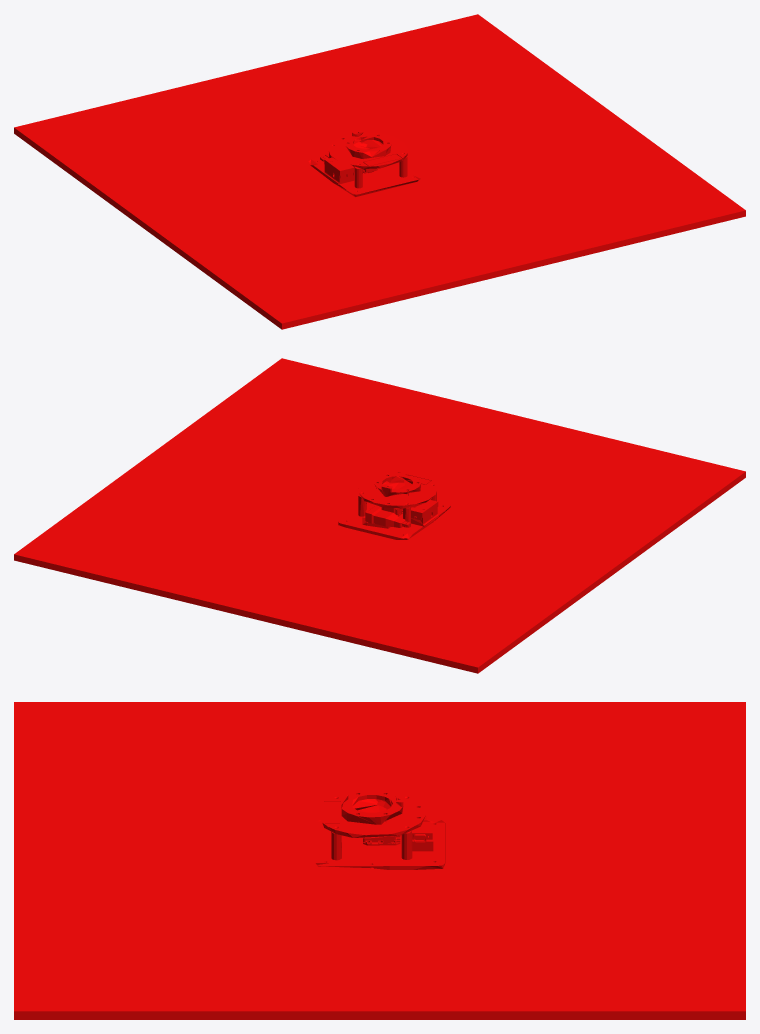
File: gamma_base_2.dae
3 renders of one model, top to bottom at view 1: azimuth 30°, elevation 25°; view 2: azimuth 150°, elevation 25°; view 3: azimuth 270°, elevation 25°, orthographic. The views are drawn at different scales.
Visible parts, largest first — view 1: Gamma_base; view 2: Gamma_base; view 3: Gamma_base.
Part boxes in pixels (box(x1,y1,x2,y2)): Gamma_base: box(14, 14, 745, 329); Gamma_base: box(14, 358, 745, 673); Gamma_base: box(14, 702, 745, 1019).
Size of the model in its own units: 10 by 0.8483 by 10.
